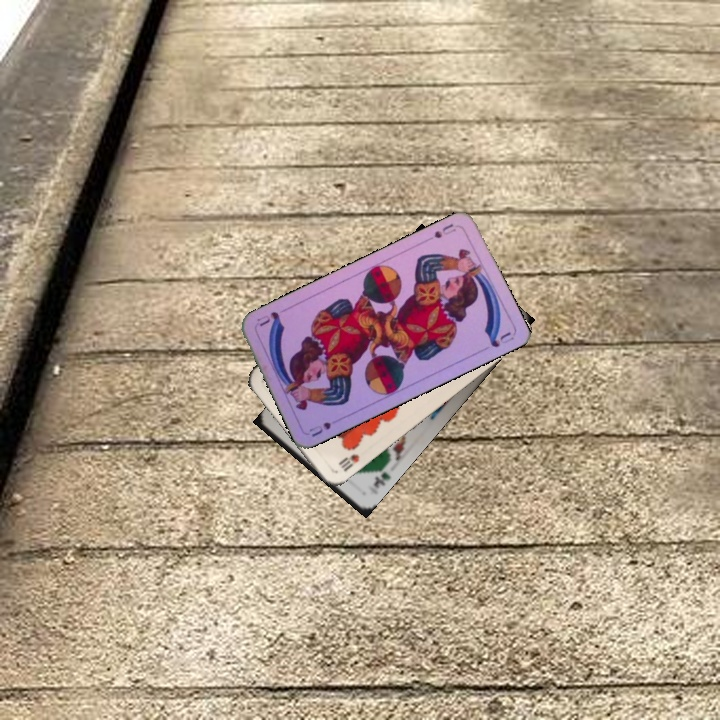GK: (369, 461, 393, 491)
H10: (334, 450, 362, 474)
SU: (305, 413, 345, 440), (430, 220, 458, 241)
